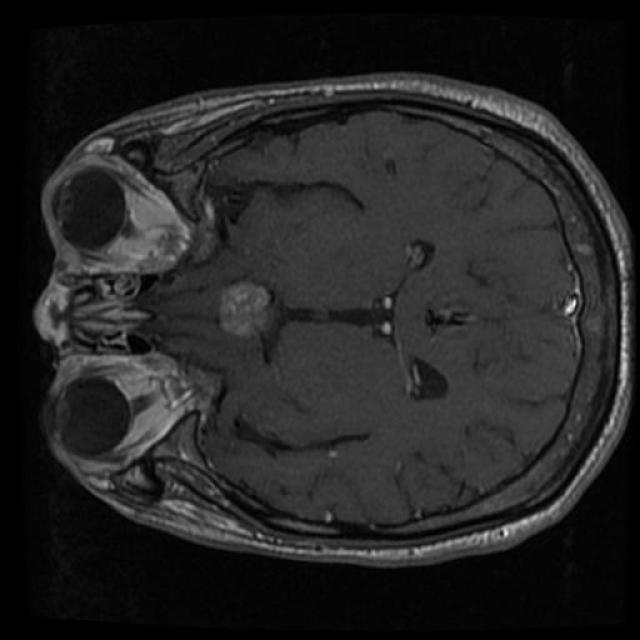Pituitary: (219, 281, 272, 336)
